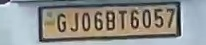numberplate: (37, 3, 182, 38)
